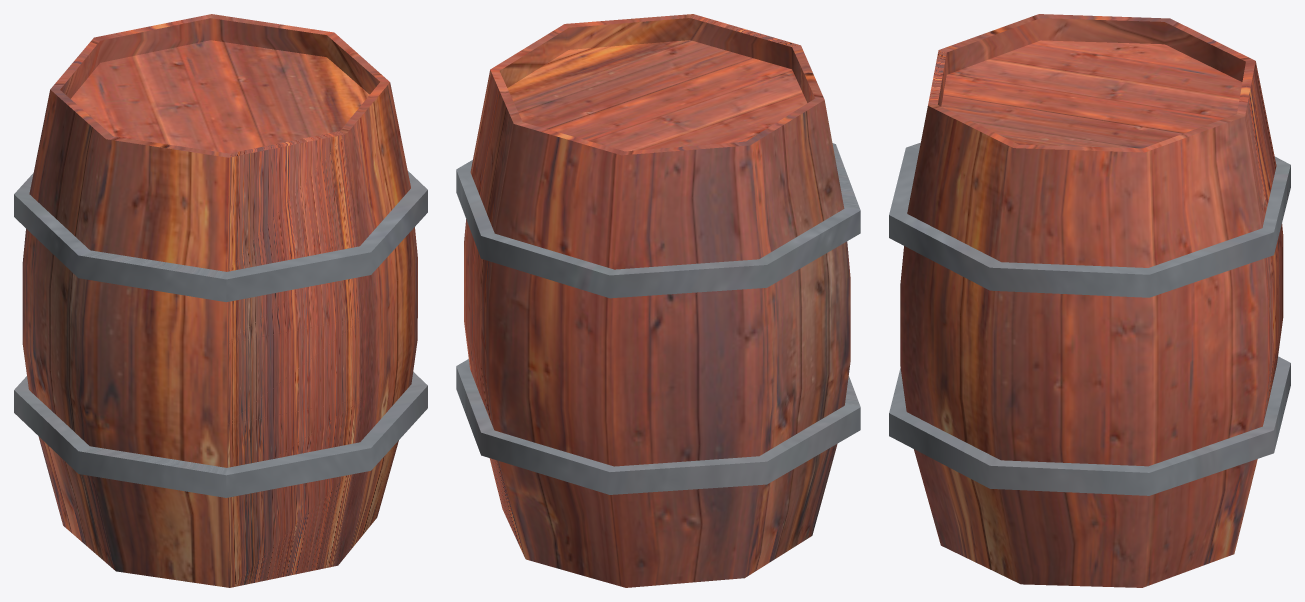
Rendered from barrel.fbx.
The picture shows the model from 3 angles, left to right: view 1: azimuth 30°, elevation 25°; view 2: azimuth 150°, elevation 25°; view 3: azimuth 270°, elevation 25°; orthographic projection.
Visible parts, largest first — view 1: accs.001; view 2: accs.001; view 3: accs.001.
Part boxes in pixels (x1,y1,x2,y2): accs.001: (14, 14, 427, 587); accs.001: (456, 14, 860, 587); accs.001: (889, 14, 1290, 587).
Size of the model in its own units: 40.73 by 49.32 by 40.73.
1 material, 1 textured.
